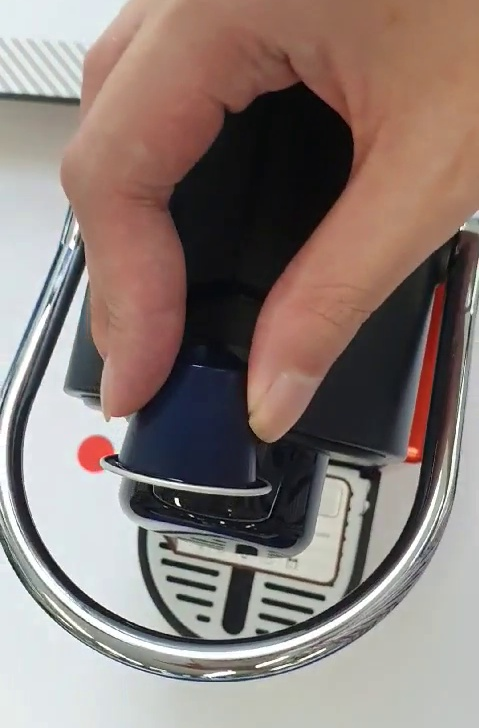capsule_1: (101, 341, 276, 502)
